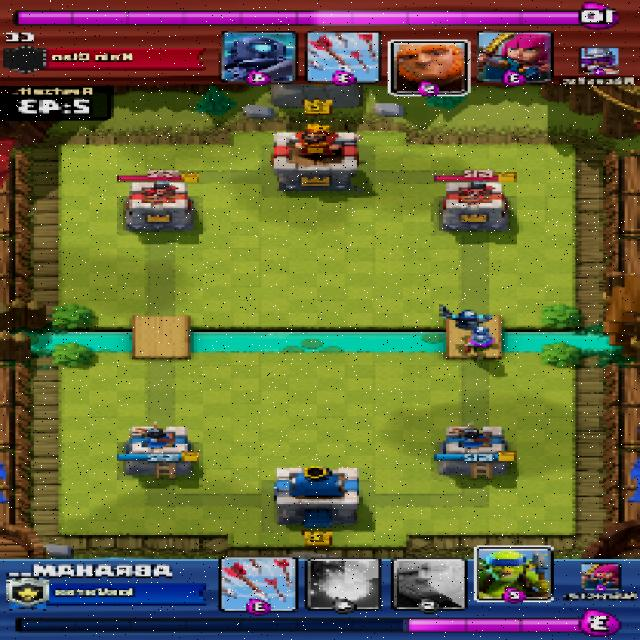Player-MiniPEKKA: (438, 304, 492, 330)
Player-Musketeer: (462, 331, 497, 355)
